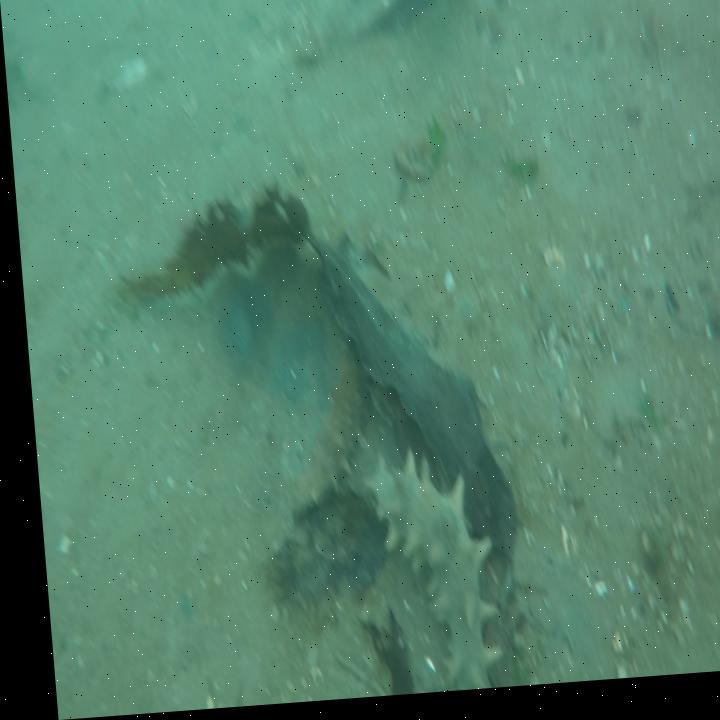holothurian: (357, 451, 487, 697), (274, 346, 361, 521)
